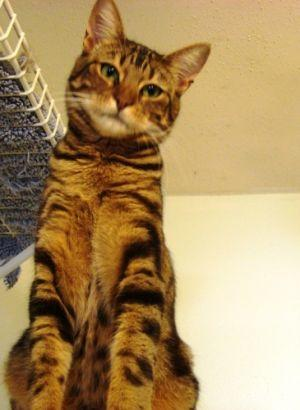bengal: (53, 1, 215, 160)
